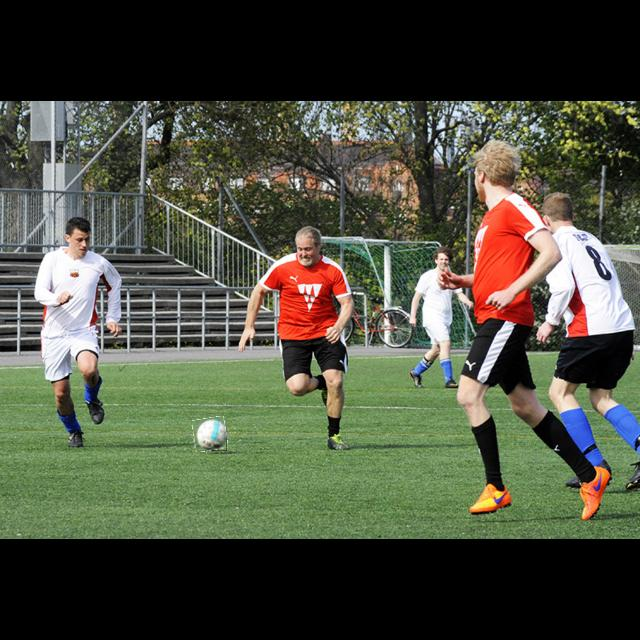Football: (193, 417, 227, 451)
